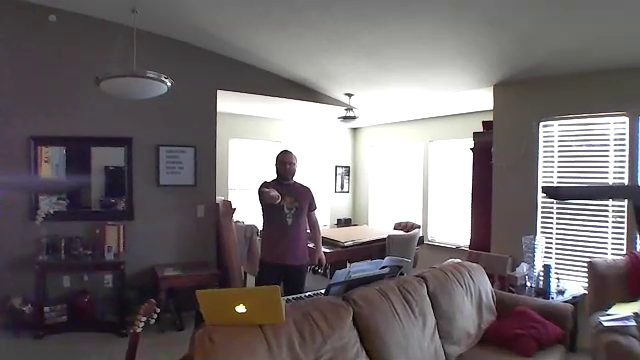land: (259, 186, 285, 205)
